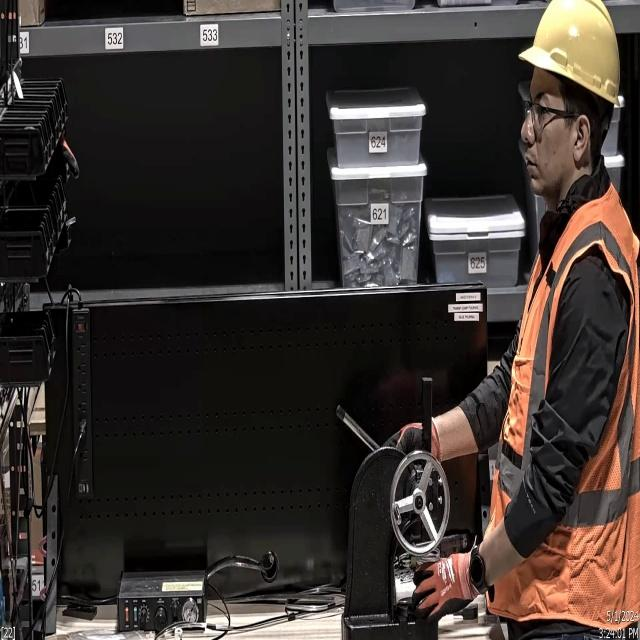construction-gloves: (412, 549, 478, 630)
